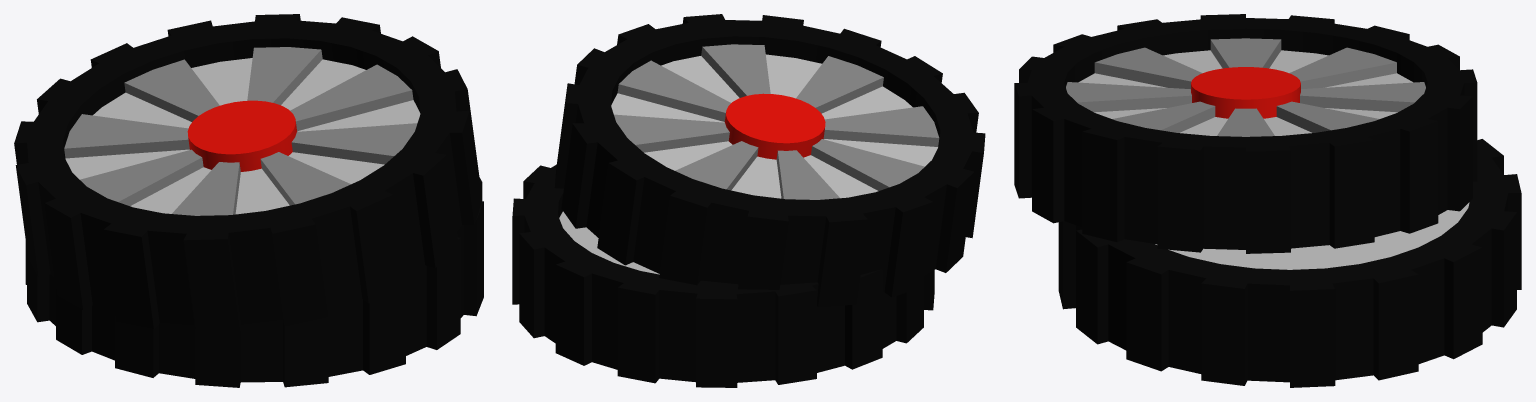
Rendered from Spare Tires.fbx.
The picture shows the model from 3 angles, left to right: view 1: azimuth 30°, elevation 25°; view 2: azimuth 150°, elevation 25°; view 3: azimuth 270°, elevation 25°; orthographic projection. The views are drawn at different scales.
Visible parts, largest first — view 1: Right Wheel.001, Right Wheel; view 2: Right Wheel.001, Right Wheel; view 3: Right Wheel.001, Right Wheel.
Part boxes in pixels (<box>): Right Wheel.001: <box>14,14,481,332</box>; Right Wheel: <box>25,177,483,387</box>; Right Wheel.001: <box>554,14,985,307</box>; Right Wheel: <box>512,164,934,387</box>; Right Wheel.001: <box>1014,14,1477,253</box>; Right Wheel: <box>1058,139,1521,387</box>.
Size of the model in its own units: 268 by 129 by 271.
